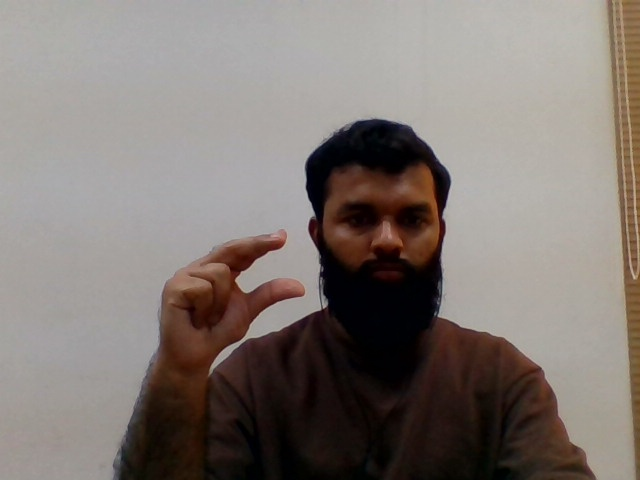No: (130, 222, 310, 367)
